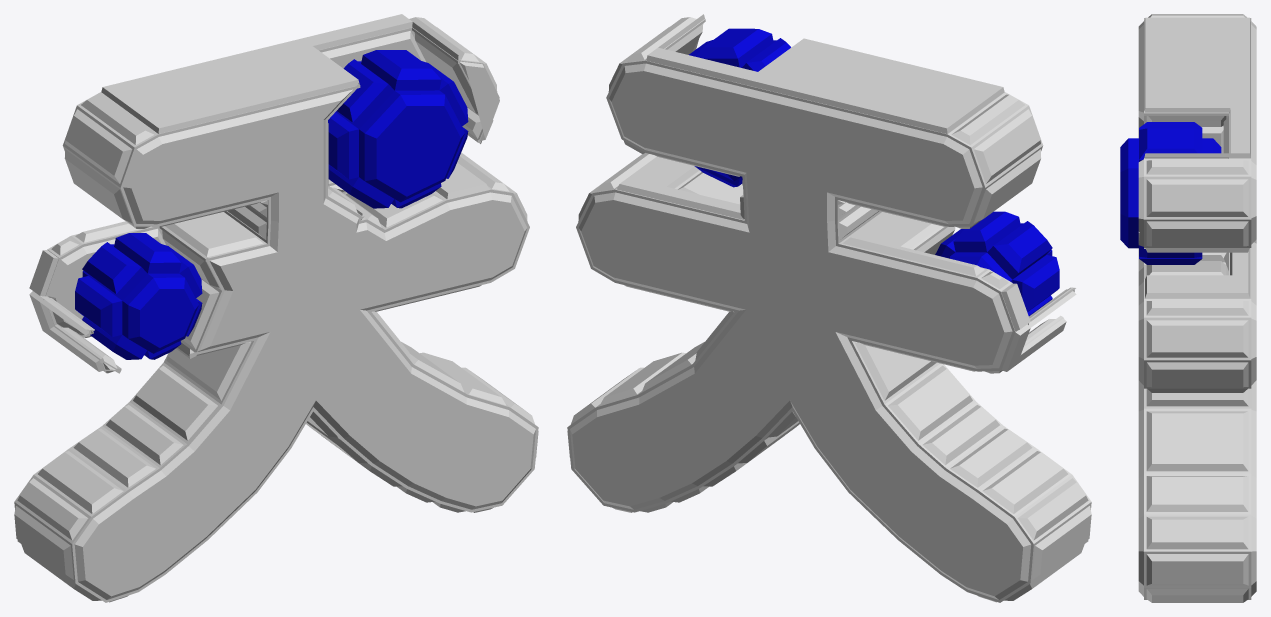
Rendered from Ch_China_天_01.fbx.
The picture shows the model from 3 angles, left to right: view 1: azimuth 30°, elevation 25°; view 2: azimuth 150°, elevation 25°; view 3: azimuth 270°, elevation 25°; orthographic projection. The views are drawn at different scales.
Parts seen in each view (by area): view 1: sphere1; view 2: sphere1; view 3: sphere1.
Part boxes in pixels (x1,y1,x2,y2): sphere1: (14,14,538,602); sphere1: (567,14,1091,602); sphere1: (1120,14,1256,602).
Size of the model in its own units: 0.9487 by 0.8884 by 0.2541.
